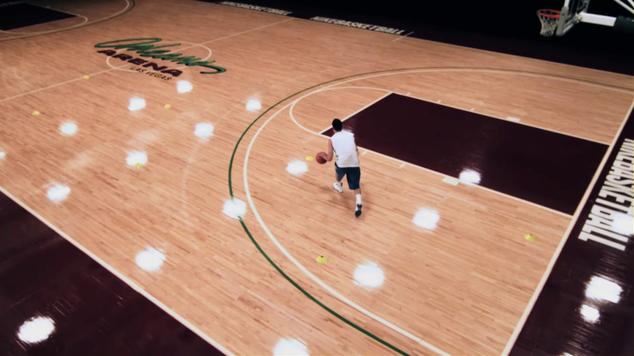walk: (321, 114, 369, 211)
